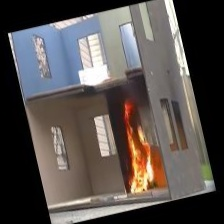fire: (106, 92, 165, 202)
